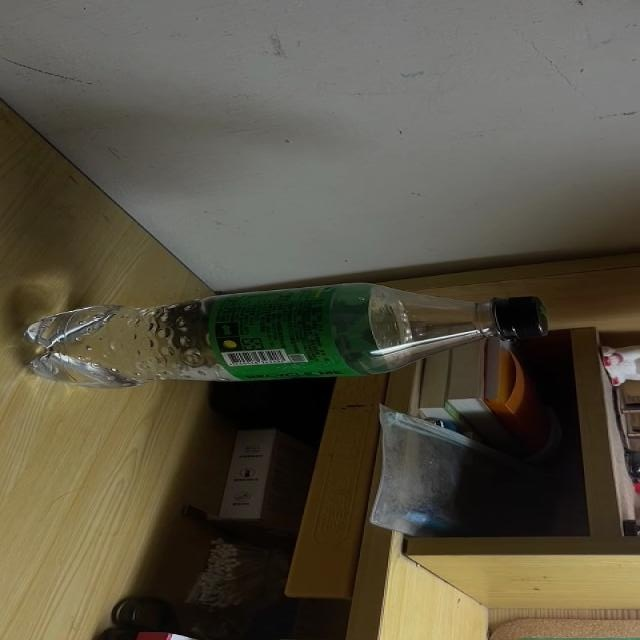Sprite: (24, 282, 548, 391)
